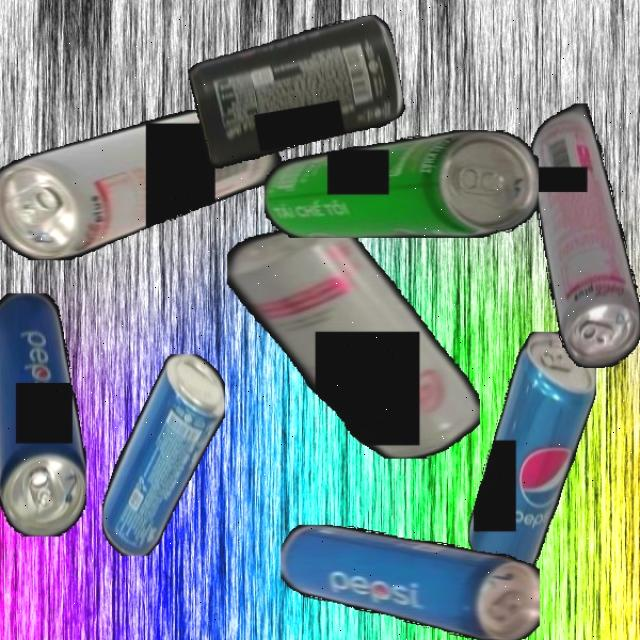debris: (226, 221, 480, 458), (0, 109, 291, 260), (184, 12, 410, 170), (467, 331, 596, 574), (279, 525, 540, 640), (264, 130, 538, 238), (530, 102, 640, 368), (101, 353, 225, 556), (0, 292, 86, 536)
